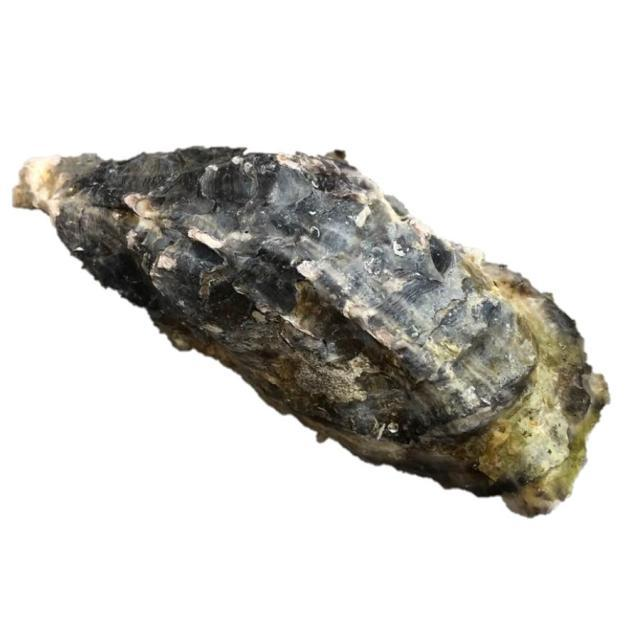Oyster- Indeterminate: (0, 143, 612, 523)
